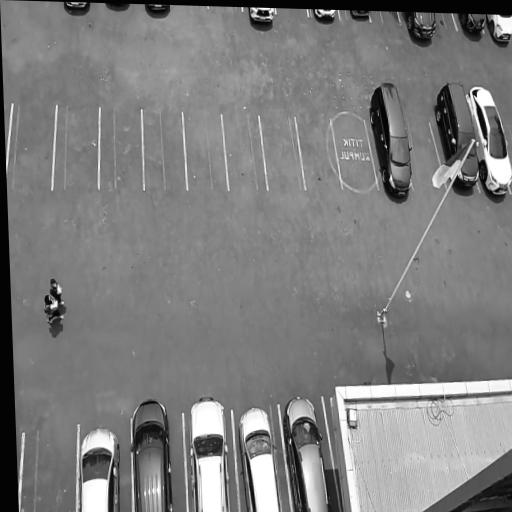Car: (279, 393, 336, 512), (364, 80, 417, 205), (432, 78, 484, 200), (464, 81, 512, 200), (127, 398, 175, 512), (187, 394, 232, 512), (239, 404, 284, 512), (78, 423, 124, 512), (402, 12, 440, 45), (485, 14, 512, 48), (456, 14, 488, 37), (247, 7, 277, 25), (62, 2, 93, 17), (144, 4, 171, 17), (312, 10, 338, 23)
Space Available: (20, 426, 76, 512), (7, 104, 56, 187), (52, 105, 99, 189), (99, 107, 143, 189), (142, 109, 187, 189), (183, 112, 228, 191), (294, 116, 342, 190), (330, 117, 379, 189), (222, 117, 267, 191), (260, 116, 305, 189), (406, 121, 446, 187), (372, 11, 401, 22)
